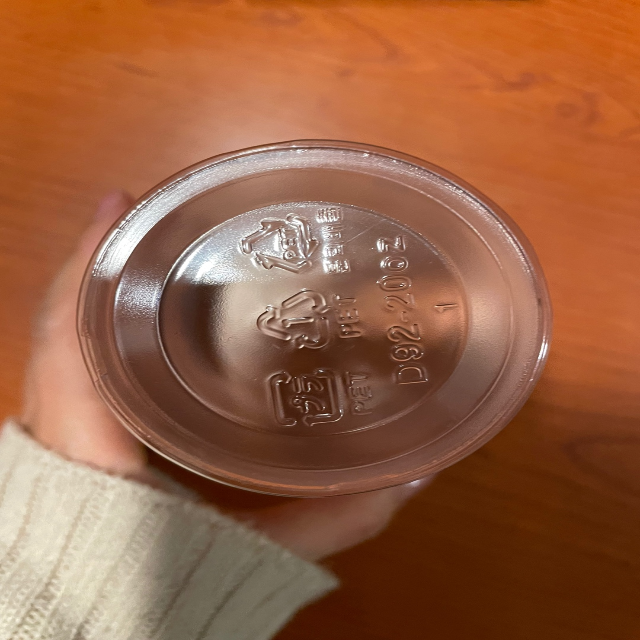pet: (233, 200, 359, 282), (261, 359, 380, 436), (246, 284, 369, 354)
